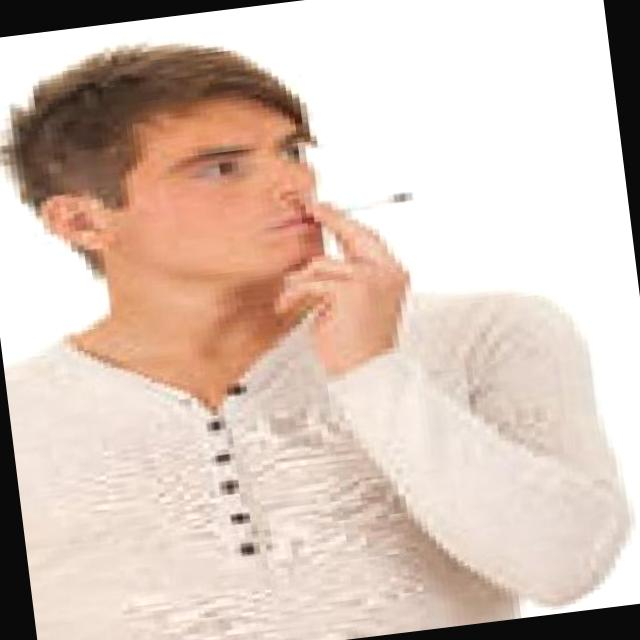smoke: (330, 189, 414, 219)
